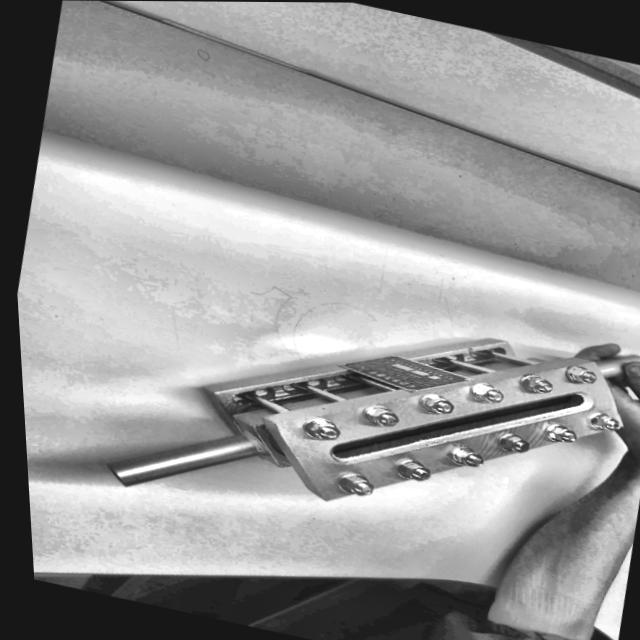ShuiWeiQi_12: (107, 256, 639, 572)
